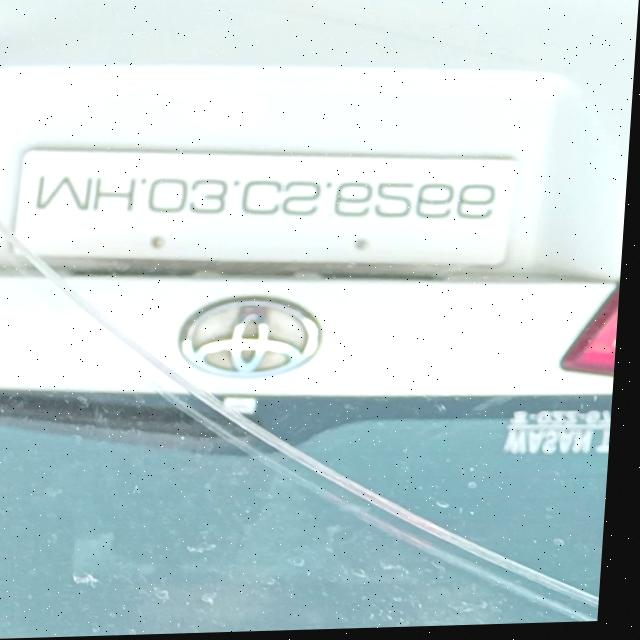plate: (11, 137, 525, 282)
